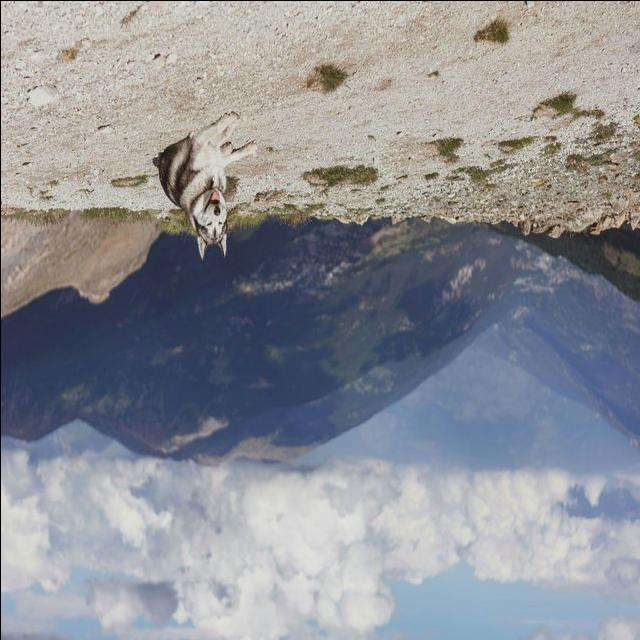husky: (152, 110, 258, 261)
